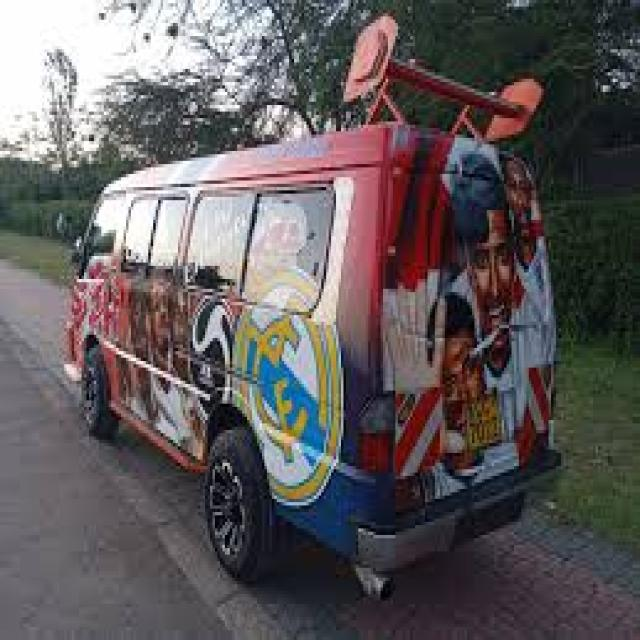matatu: (26, 10, 601, 627)
